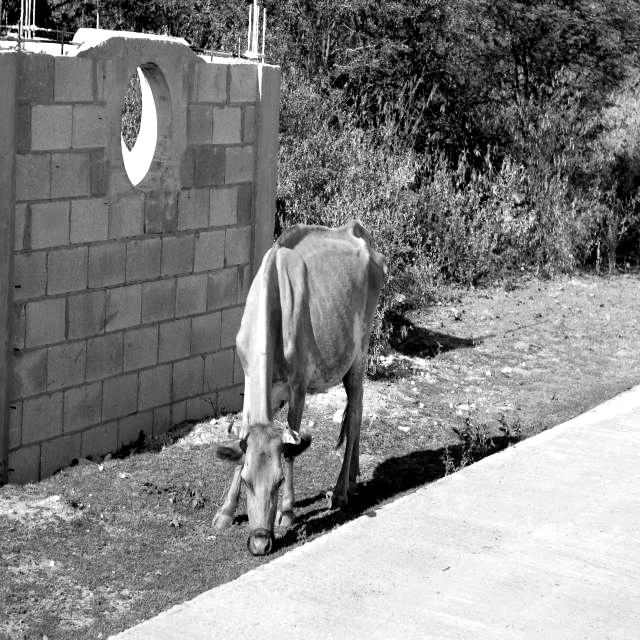COW: (212, 222, 388, 555)
